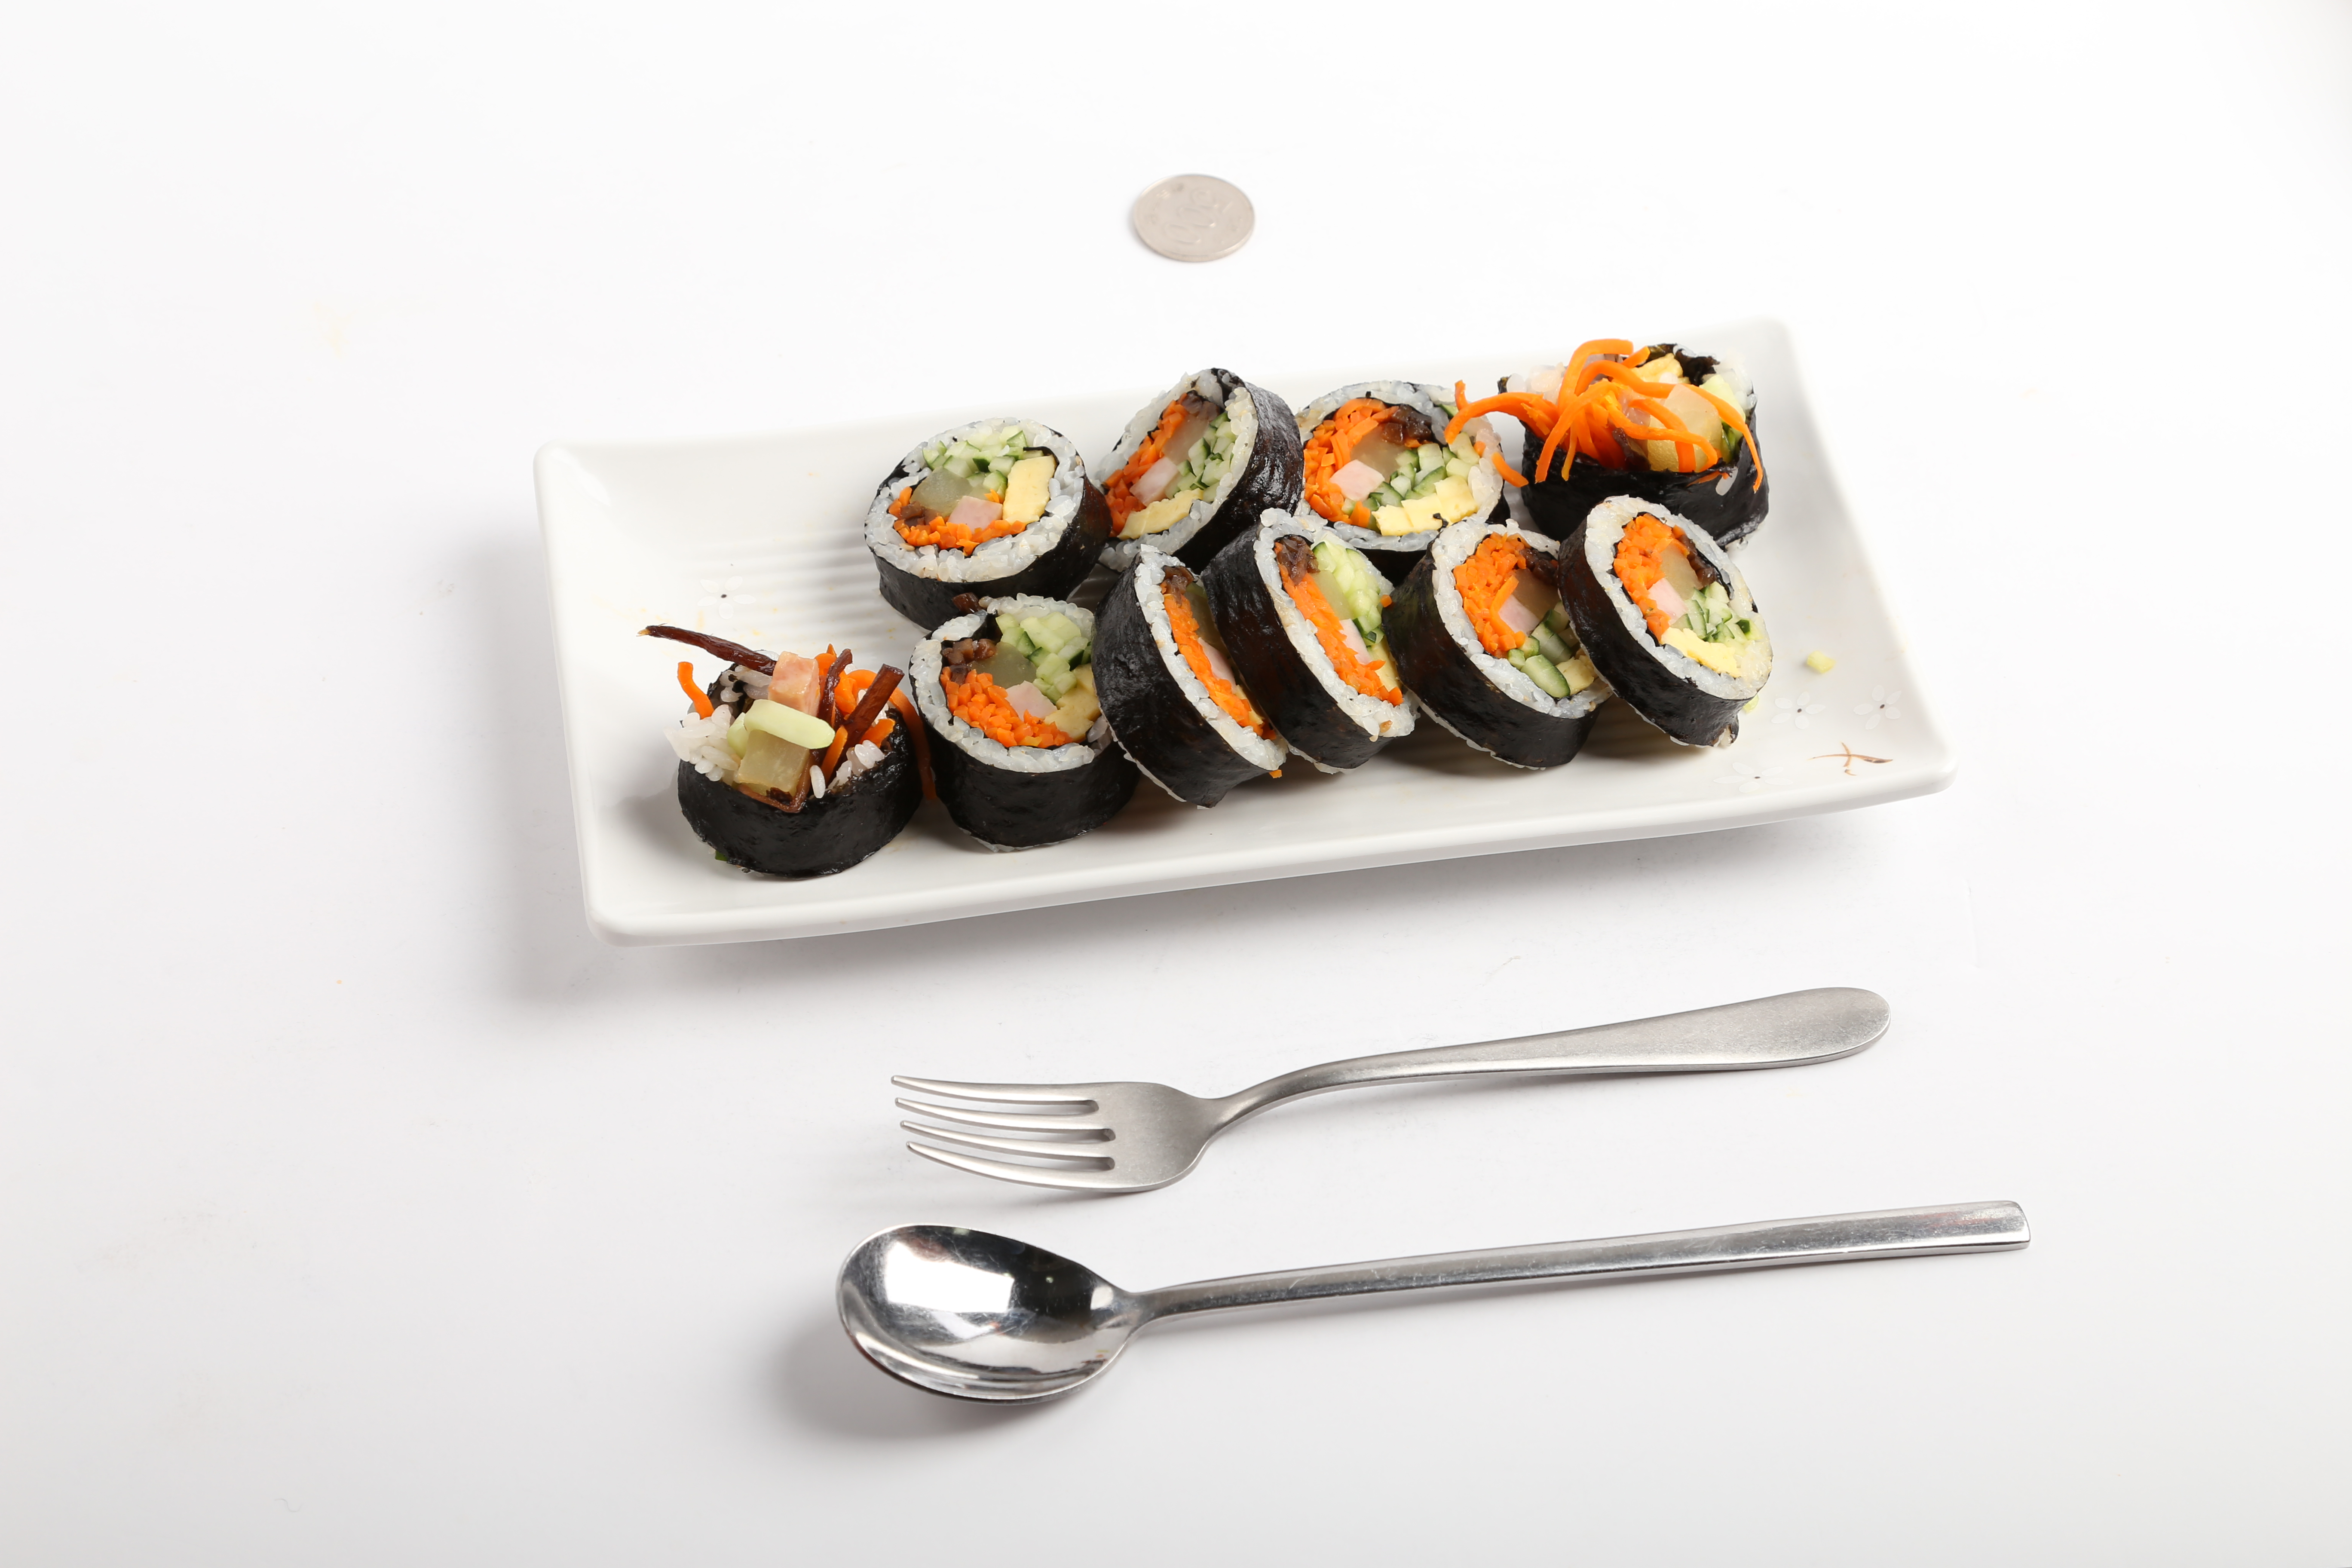dish: (528, 318, 1960, 955)
ref_coin: (1127, 166, 1255, 266)
ref_fork: (884, 1069, 1344, 1197)
ref_spoon: (831, 1220, 1223, 1410)
김밥: (675, 348, 1774, 882)
